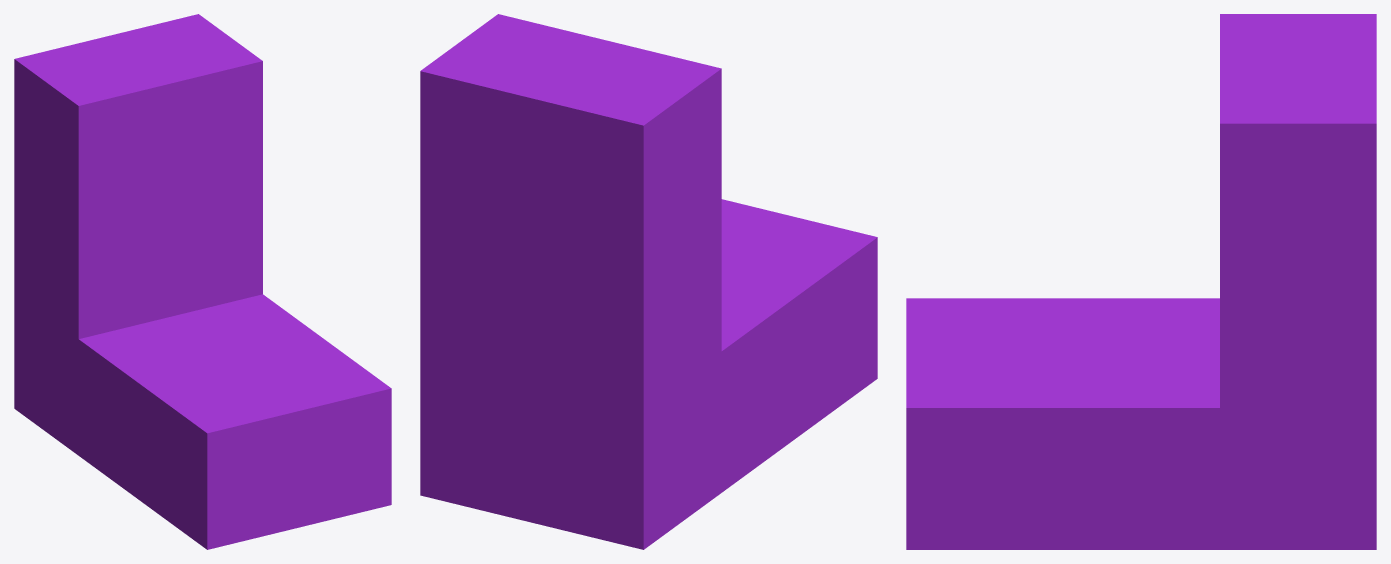
Rendered from Puzzle_Piece03.fbx.
3 views of the same model, side by side, from view 1: azimuth 30°, elevation 25°; view 2: azimuth 150°, elevation 25°; view 3: azimuth 270°, elevation 25° (orthographic). The views are drawn at different scales.
Visible parts, largest first — view 1: Cube; view 2: Cube; view 3: Cube.
Part boxes in pixels (x1,y1,x2,y2): Cube: [14, 14, 391, 549]; Cube: [420, 14, 877, 549]; Cube: [906, 14, 1376, 549].
Size of the model in its own units: 331 by 600 by 600.
